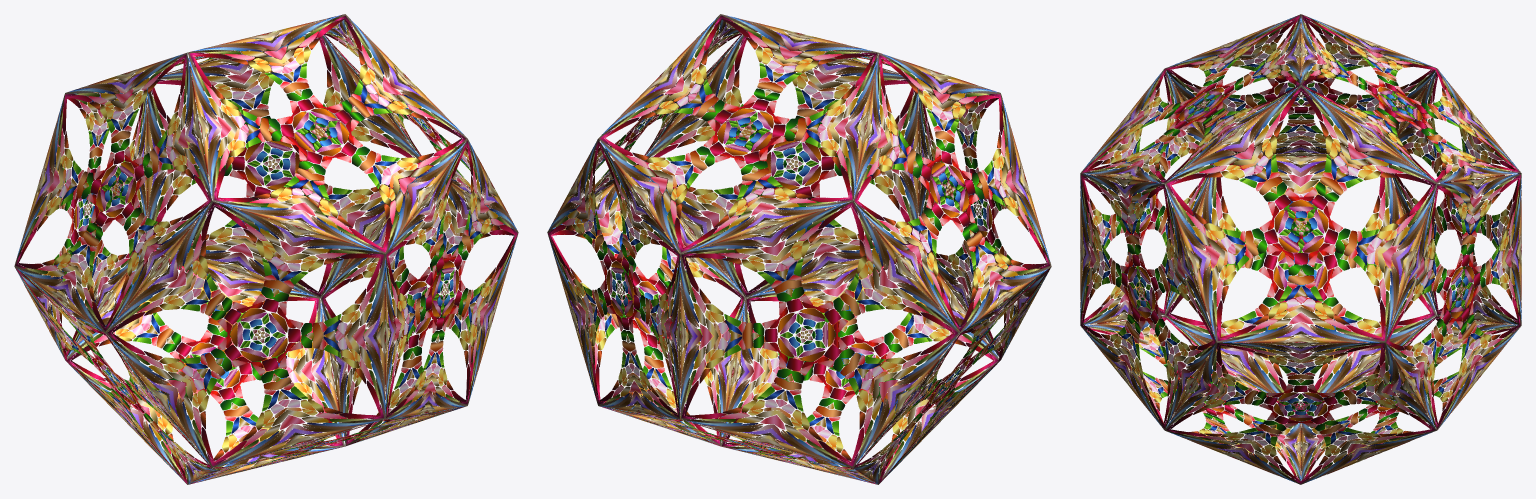
Rendered from Dodecahedron.obj.
3 views of the same model, side by side, from view 1: azimuth 30°, elevation 25°; view 2: azimuth 150°, elevation 25°; view 3: azimuth 270°, elevation 25° (orthographic). The views are drawn at different scales.
Size of the model in its own units: 2.62 by 2.62 by 2.62.
1 material, 1 textured.
